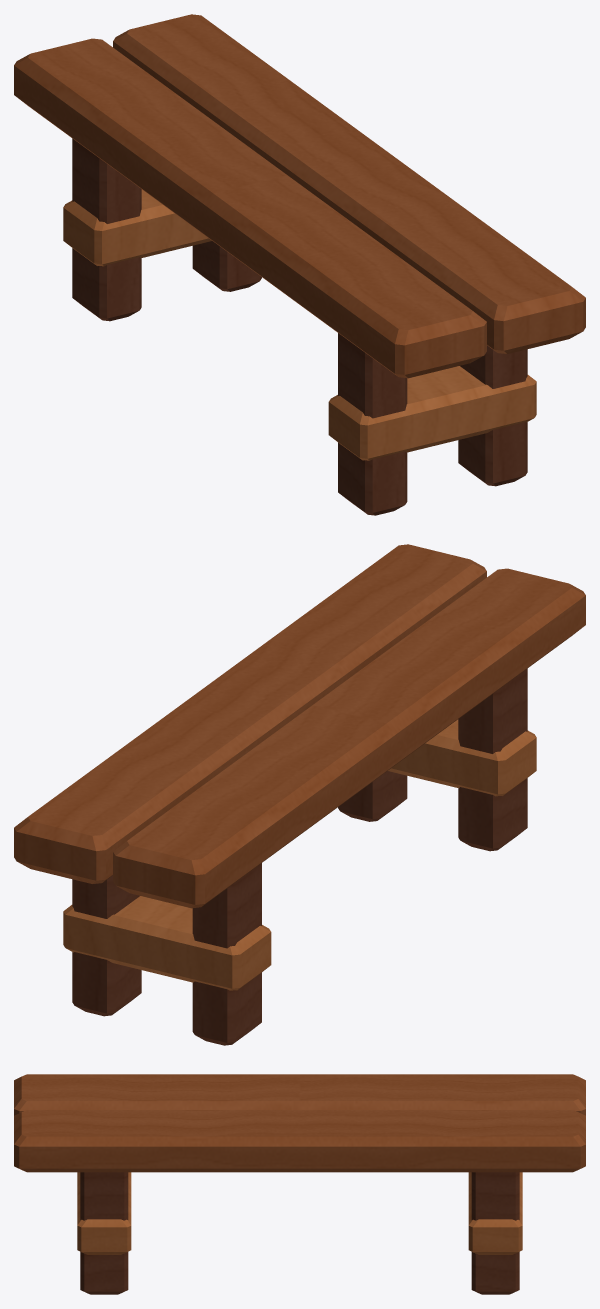
The model's file is Prop_Bench.obj.
3 renders of one model, top to bottom at view 1: azimuth 30°, elevation 25°; view 2: azimuth 150°, elevation 25°; view 3: azimuth 270°, elevation 25°, orthographic. The views are drawn at different scales.
Parts seen in each view (by area): view 1: Seat_planks, Legs, Braces; view 2: Seat_planks, Legs, Braces; view 3: Seat_planks, Legs, Braces.
Boxes of the visible parts, bbox=[...] form: Seat_planks: bbox=[14, 14, 585, 378]; Legs: bbox=[72, 138, 527, 515]; Braces: bbox=[63, 189, 536, 460]; Seat_planks: bbox=[14, 544, 585, 908]; Legs: bbox=[72, 668, 527, 1045]; Braces: bbox=[63, 719, 536, 990]; Seat_planks: bbox=[14, 1074, 585, 1172]; Legs: bbox=[80, 1172, 519, 1294]; Braces: bbox=[77, 1172, 522, 1254].
Size of the model in its own units: 0.54 by 0.595 by 1.9.
Materials: 3 (3 with a texture image).
